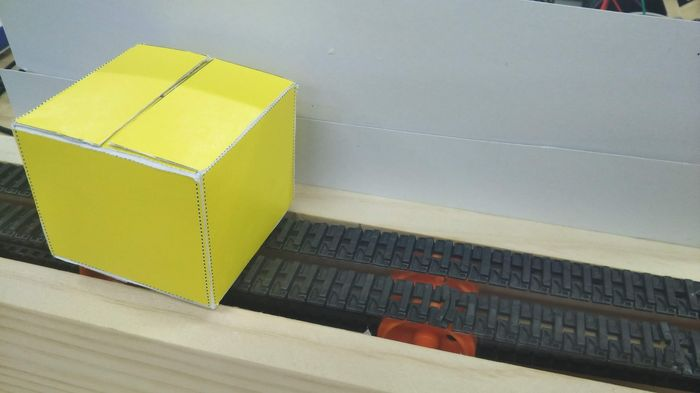box4: (10, 36, 300, 314)
